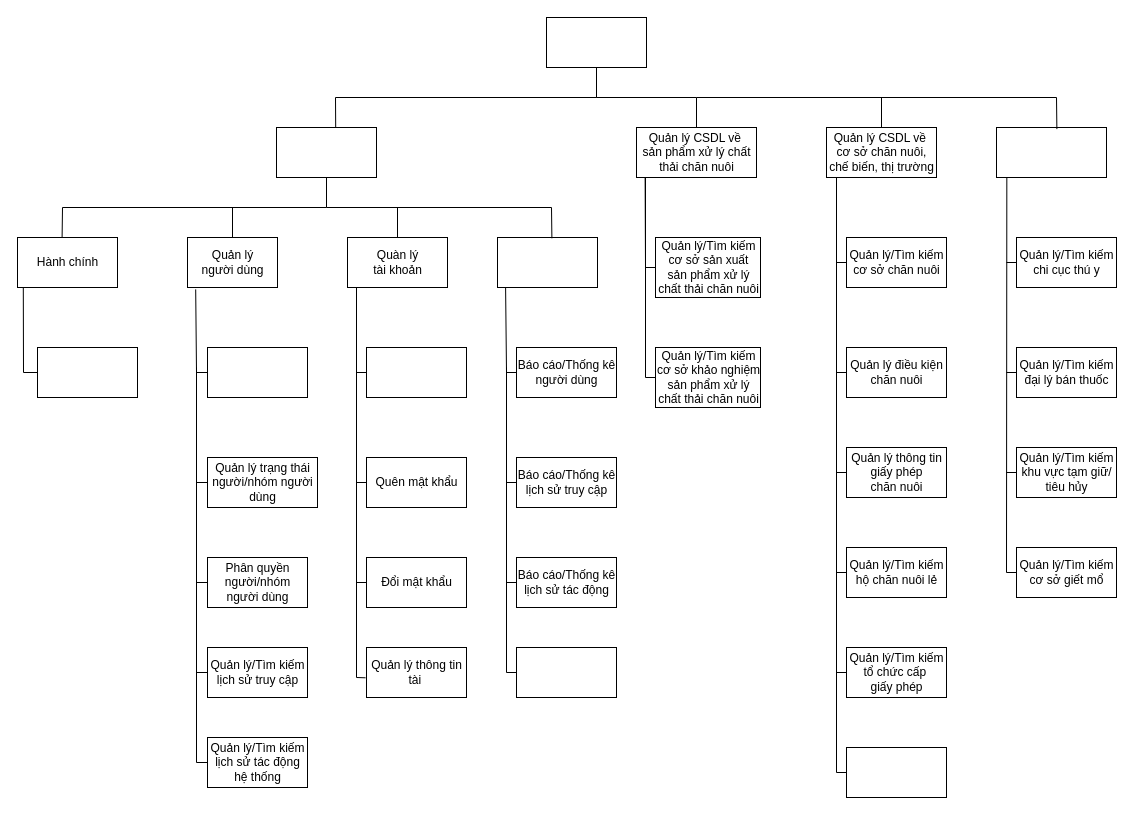
Some shapes in this 1134 by 815 pixel diagram are drawn without their labels. Each missing label, with the centre of its shape:
Báo cáo tổng hợp: the point at 566,672
Báo cáo/Thống kê: the point at 547,262
Hệ thống quản lý chăn nuôi: the point at 596,42
Quản lý CSDL khác về chăn nuôi: the point at 1051,152
Quản lý cơ sở chế biến sản phẩm: the point at 896,772
Quản lý/Tìm kiếm người/nhóm người dùng: the point at 257,372
Quản lý/Tìm kiếm đơn vị hành chính: the point at 87,372
Quản trị hệ thống: the point at 326,152
Đăng nhập/xuất: the point at 416,372
